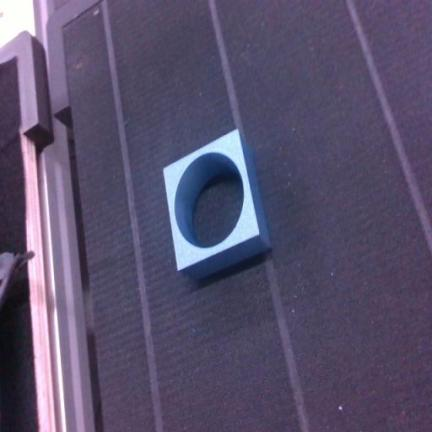hole: (164, 130, 269, 278)
